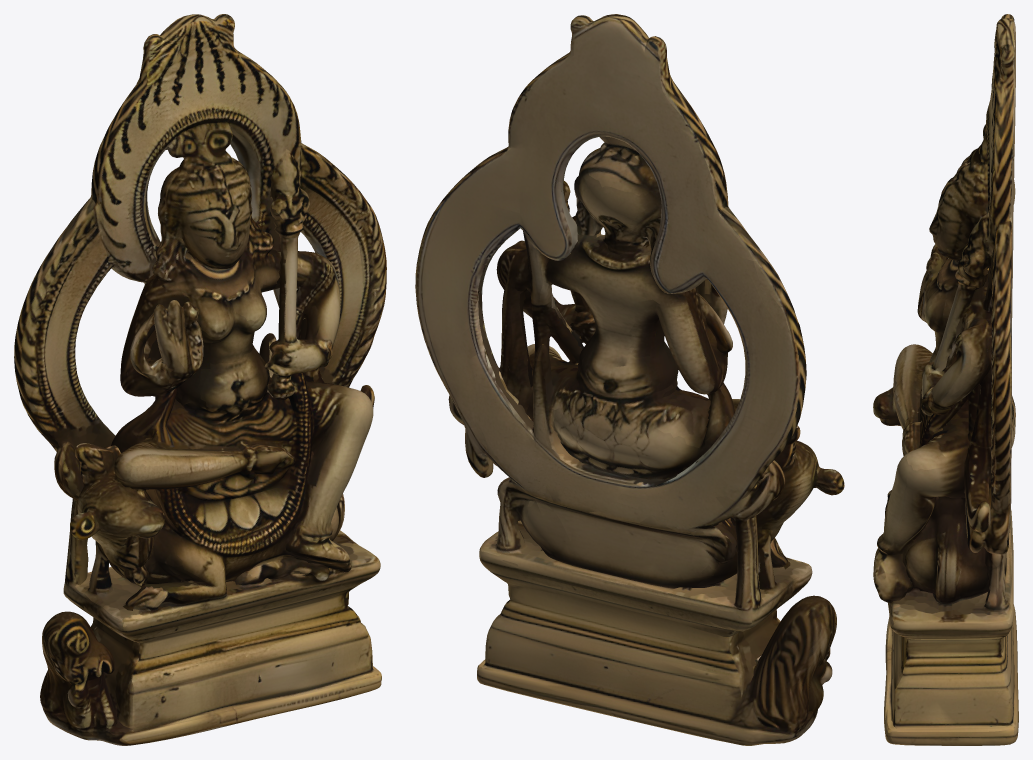
The picture shows the model from 3 angles, left to right: view 1: azimuth 30°, elevation 25°; view 2: azimuth 150°, elevation 25°; view 3: azimuth 270°, elevation 25°; orthographic projection. The views are drawn at different scales.
Visible parts, largest first — view 1: textured_mesh; view 2: textured_mesh; view 3: textured_mesh.
Part boxes in pixels (left/top/right/bottom): textured_mesh: left=14, top=14, right=386, bottom=745; textured_mesh: left=415, top=14, right=844, bottom=745; textured_mesh: left=873, top=14, right=1018, bottom=745.
Bounding box in the file's own units: 1.16 × 1.99 × 0.3981.
Materials: 1 (1 with a texture image).
